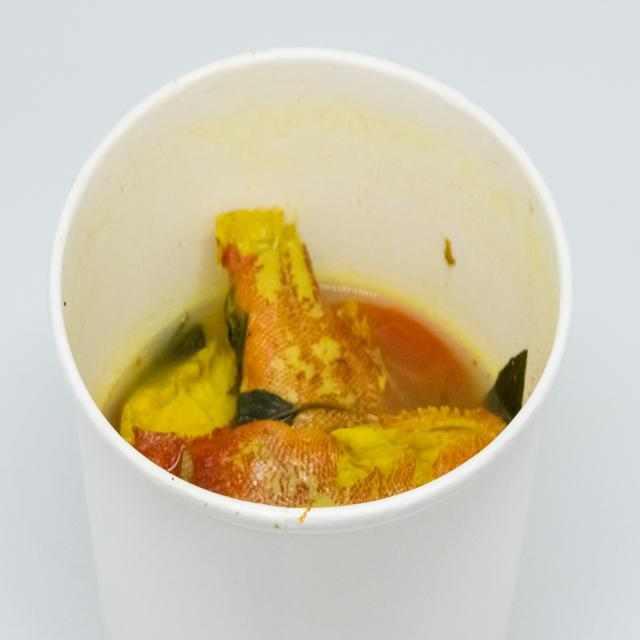Gulai-Ikan-Mas: (36, 200, 558, 518)
